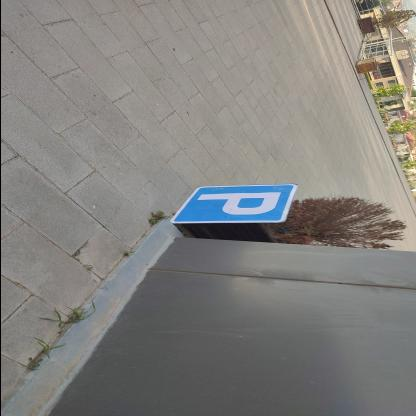Parking-Sign: (170, 185, 298, 225)
